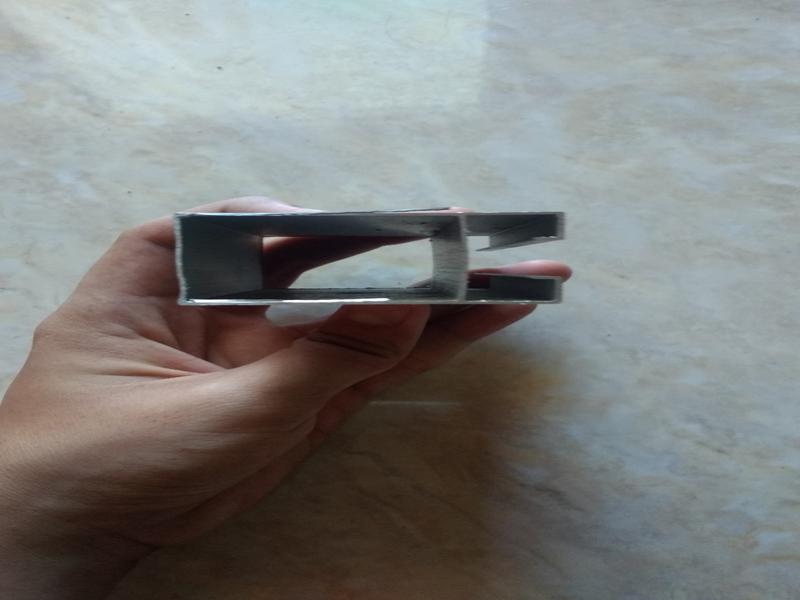Aluminium_1: (163, 193, 595, 321)
